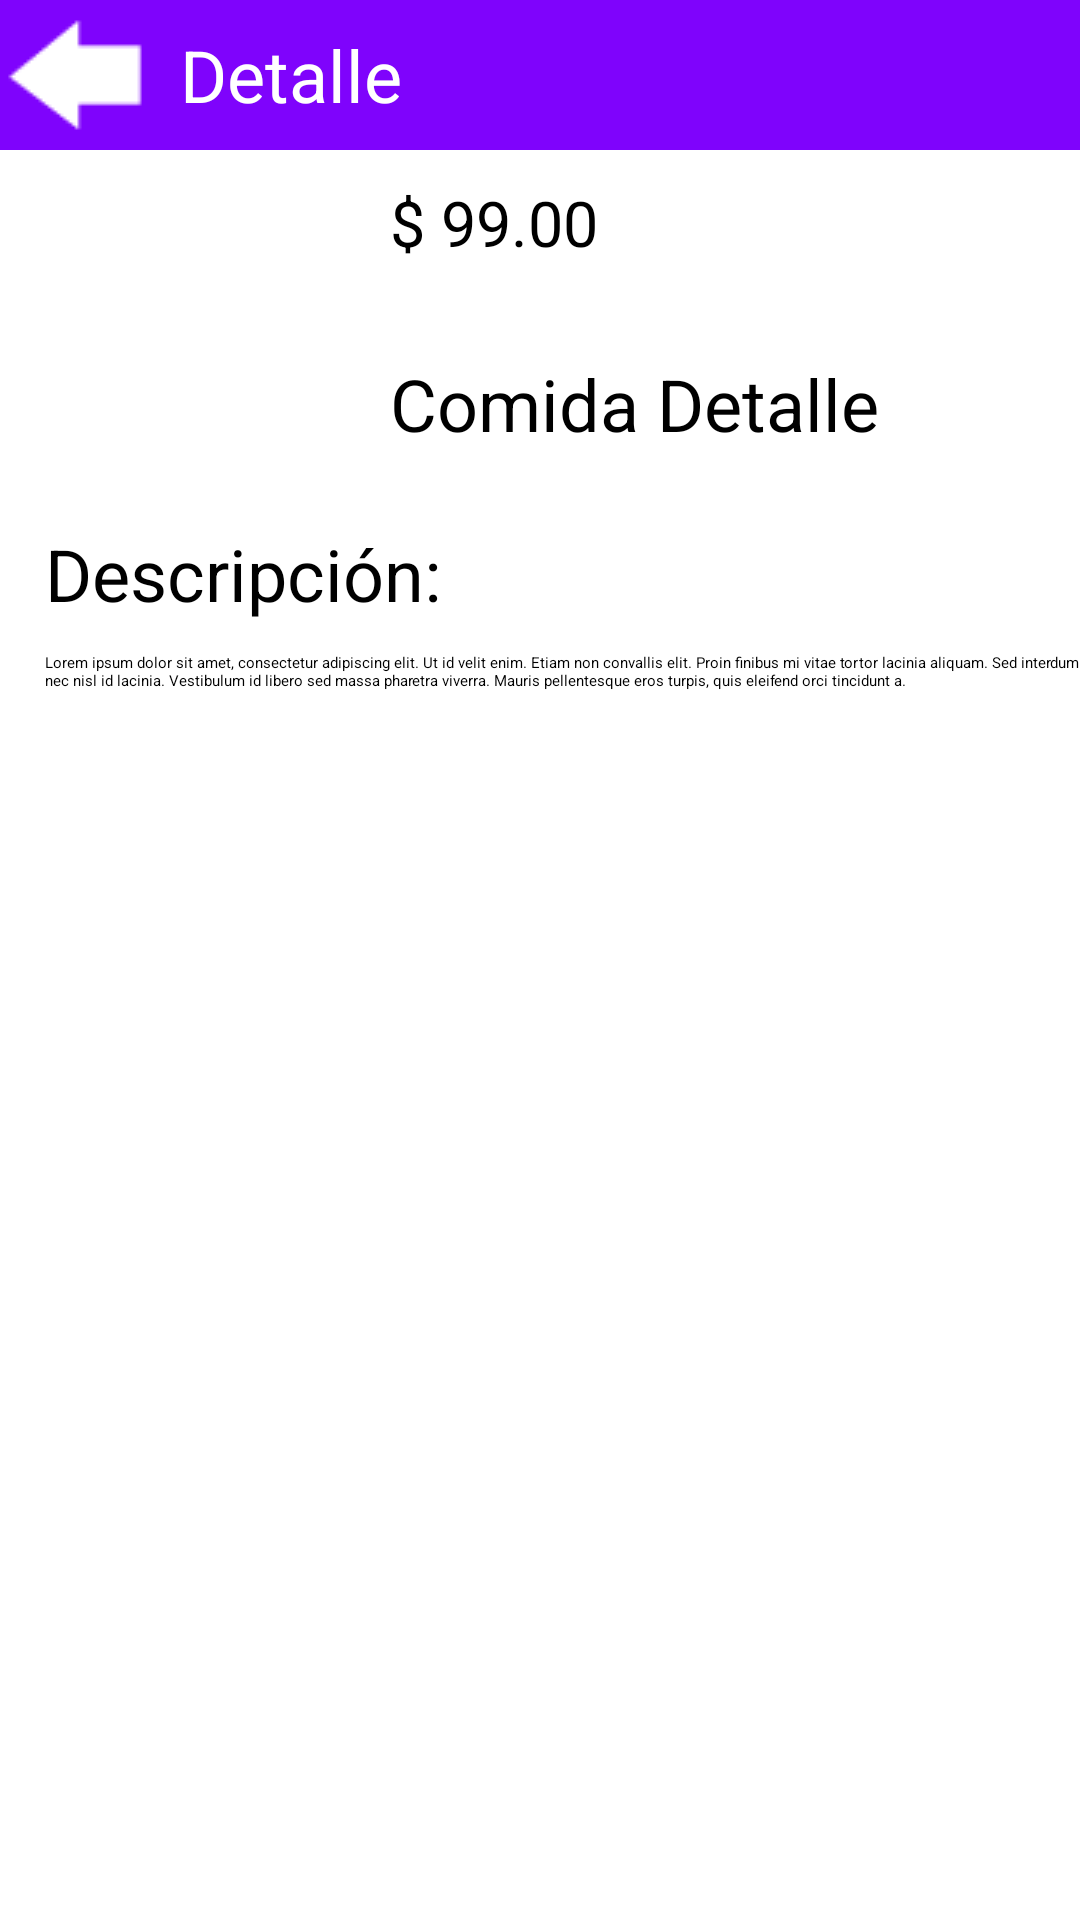

Point at icon controls on the screen. Image size 1080×1920, points as (x=x, y=y).
back: (x=75, y=75)
